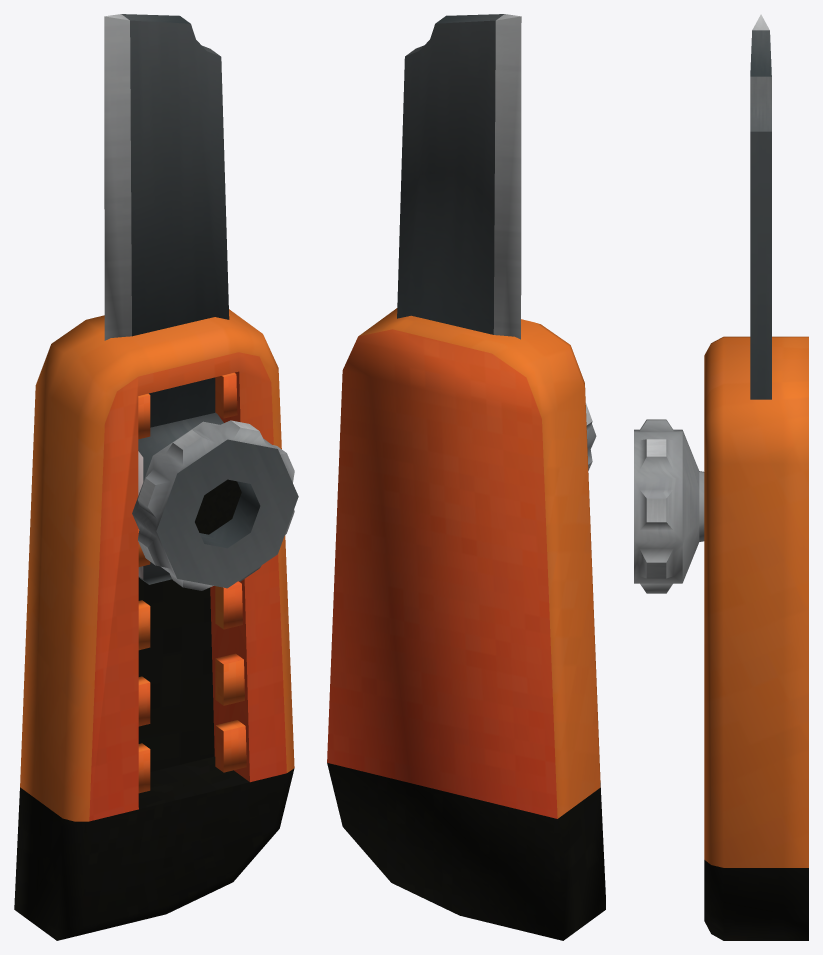
Rendered from cutter.fbx.
3 views of the same model, side by side, from view 1: azimuth 30°, elevation 25°; view 2: azimuth 150°, elevation 25°; view 3: azimuth 270°, elevation 25° (orthographic).
Visible parts, largest first — view 1: cutter; view 2: cutter; view 3: cutter.
Part boxes in pixels (box(x1,y1,x2,y2)): cutter: box(14, 14, 298, 940); cutter: box(327, 14, 605, 940); cutter: box(634, 14, 808, 940).
Size of the model in its own units: 9.42 by 33.95 by 6.03.
